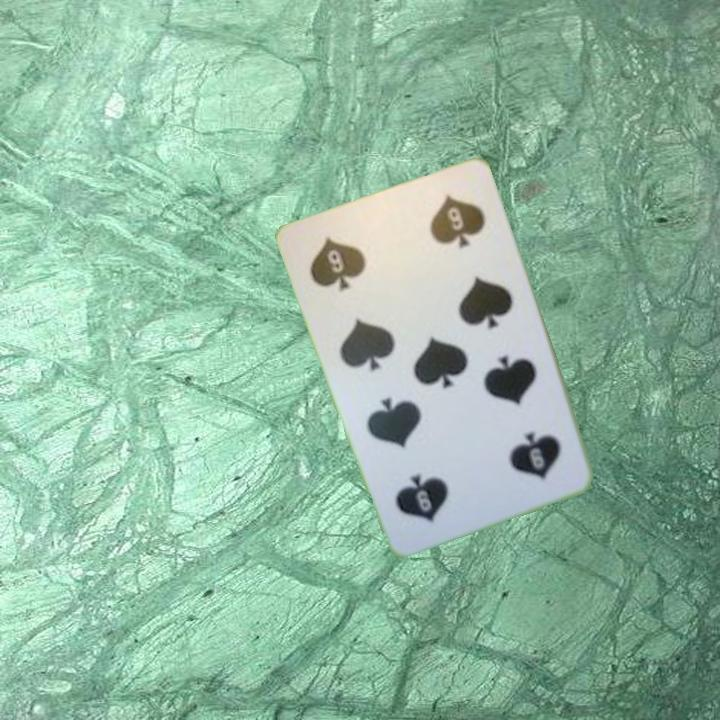s_9.png: (459, 397, 581, 510), (292, 206, 414, 319)
